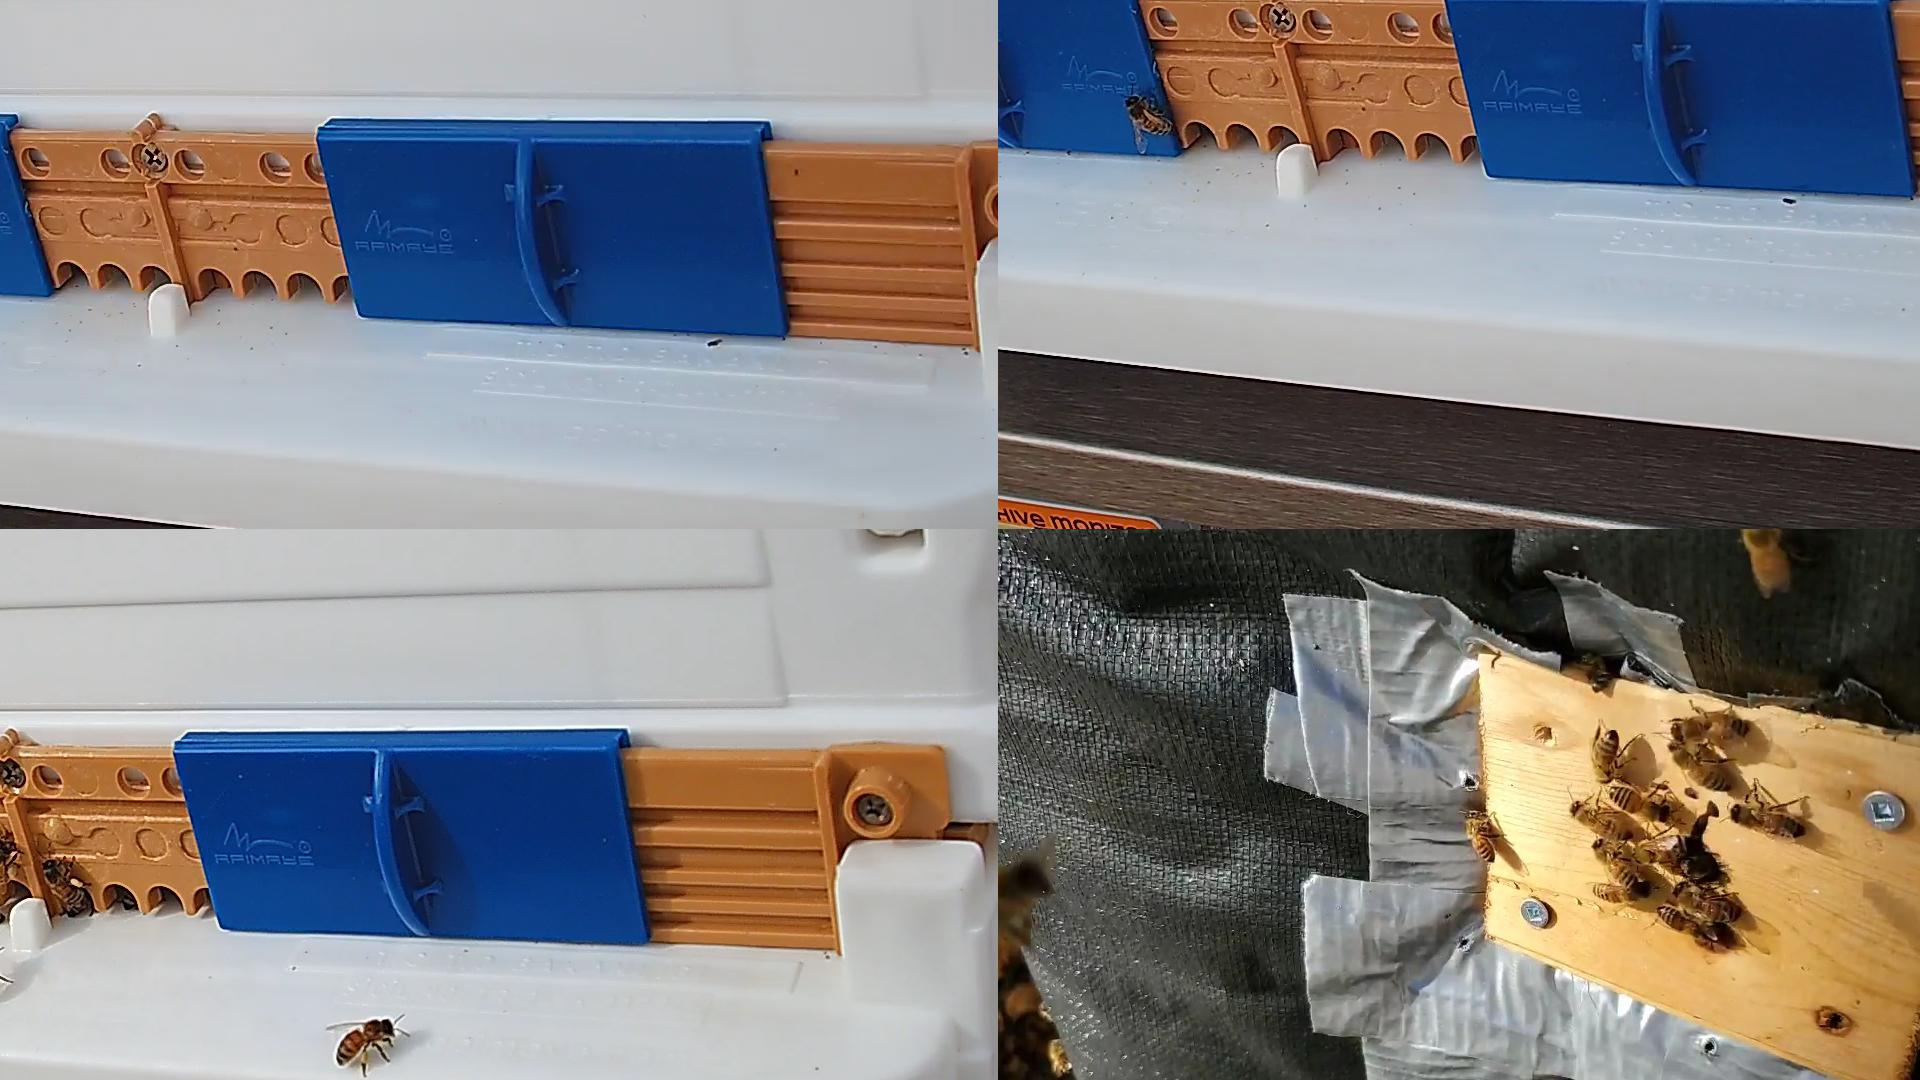bee: (1669, 741, 1733, 789), (1743, 529, 1789, 588), (1733, 804, 1805, 839), (1675, 882, 1739, 920), (1571, 802, 1634, 840), (1593, 840, 1638, 889), (1610, 787, 1669, 823), (1672, 715, 1750, 741), (1125, 94, 1174, 135), (1633, 835, 1695, 864), (1656, 907, 1714, 938), (1466, 812, 1498, 862), (1593, 729, 1619, 783), (1594, 884, 1651, 902), (1050, 1038, 1071, 1075)
pollenbee: (334, 1018, 392, 1063), (45, 860, 86, 903), (0, 840, 16, 893)
